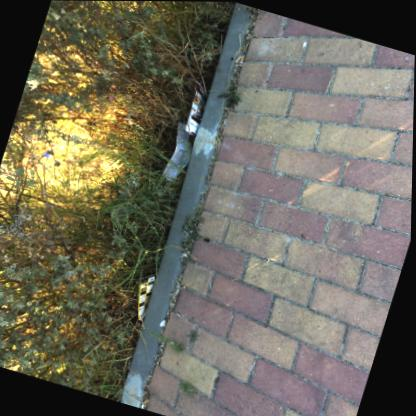Paper: (162, 121, 193, 180), (186, 80, 209, 137), (140, 270, 158, 327)
Waste: (235, 55, 242, 62), (240, 55, 244, 63), (145, 398, 150, 404)
